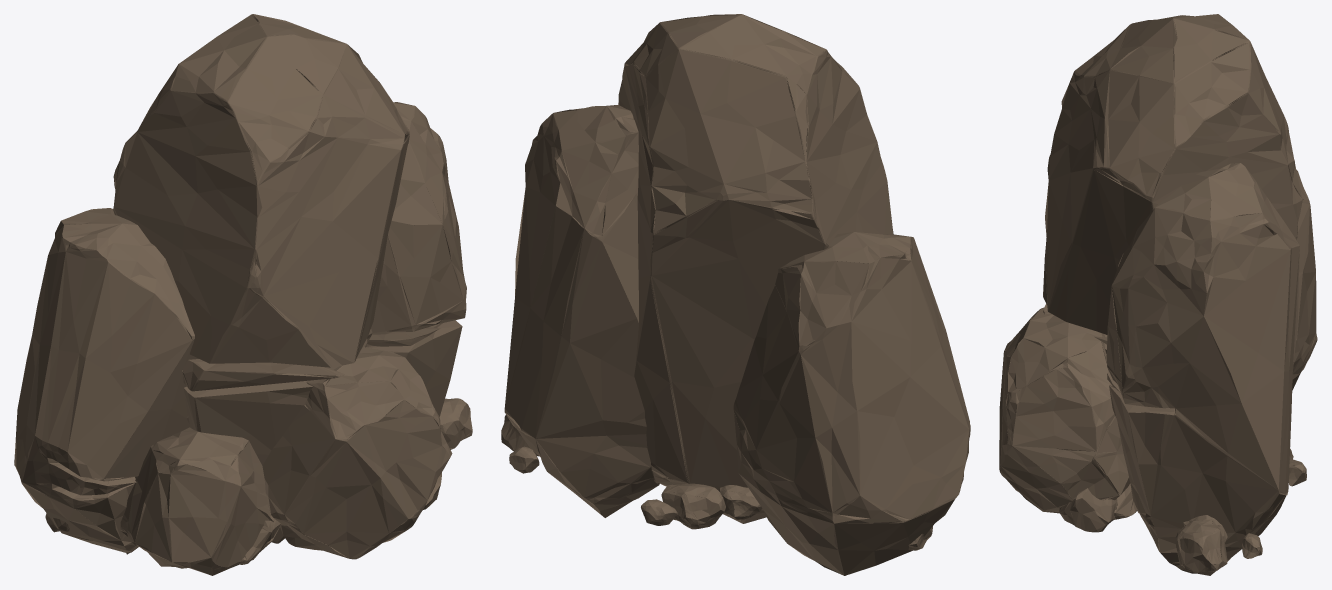
The model's file is SM_Cliff_Crown_02.fbx.
3 views of the same model, side by side, from view 1: azimuth 30°, elevation 25°; view 2: azimuth 150°, elevation 25°; view 3: azimuth 270°, elevation 25° (orthographic). The views are drawn at different scales.
Parts seen in each view (by area): view 1: SM_Cliff_Crown_02.001; view 2: SM_Cliff_Crown_02.001; view 3: SM_Cliff_Crown_02.001.
Boxes of the visible parts, <box> form: SM_Cliff_Crown_02.001: <box>14,14,472,575</box>; SM_Cliff_Crown_02.001: <box>501,14,970,575</box>; SM_Cliff_Crown_02.001: <box>999,14,1317,575</box>.
Size of the model in its own units: 366 by 227 by 396.
